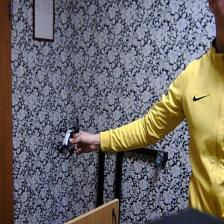drone: (50, 116, 84, 162)
